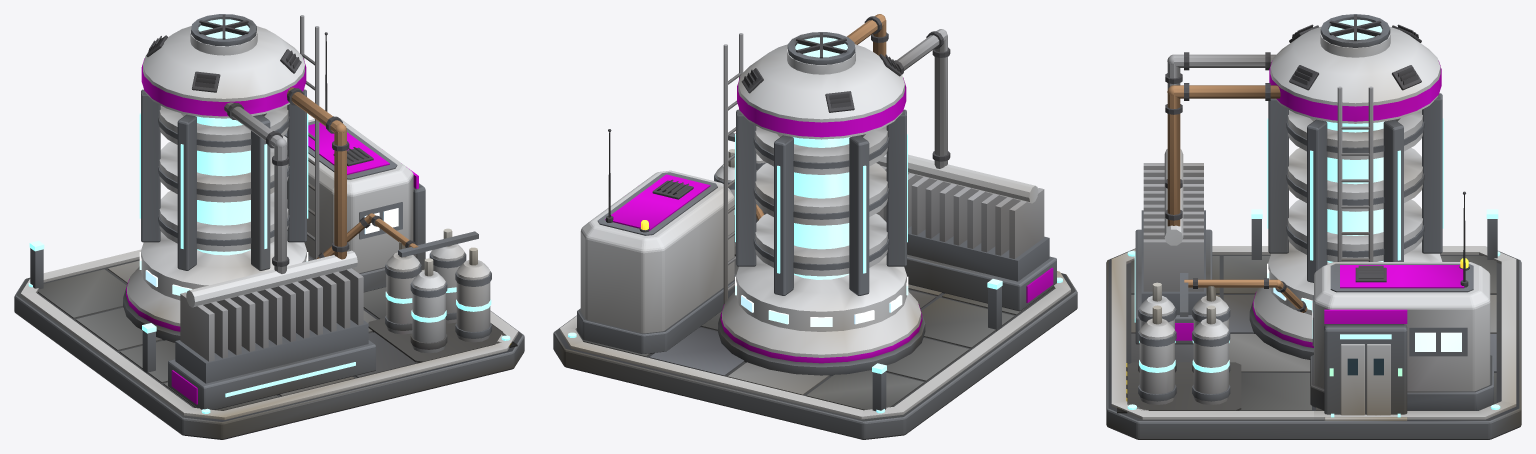
Rendered from power_plant_future.glb.
3 renders of one model, left to right at view 1: azimuth 30°, elevation 25°; view 2: azimuth 150°, elevation 25°; view 3: azimuth 270°, elevation 25°, orthographic. The views are drawn at different scales.
Parts seen in each view (by area): view 1: Body; view 2: Body; view 3: Body.
Boxes of the visible parts, left/top/right/bottom form: Body: left=14, top=14, right=524, bottom=439; Body: left=553, top=14, right=1077, bottom=439; Body: left=1106, top=14, right=1521, bottom=439.
Size of the model in its own units: 4 by 3.33 by 4.
Materials: 1 (1 with a texture image).
